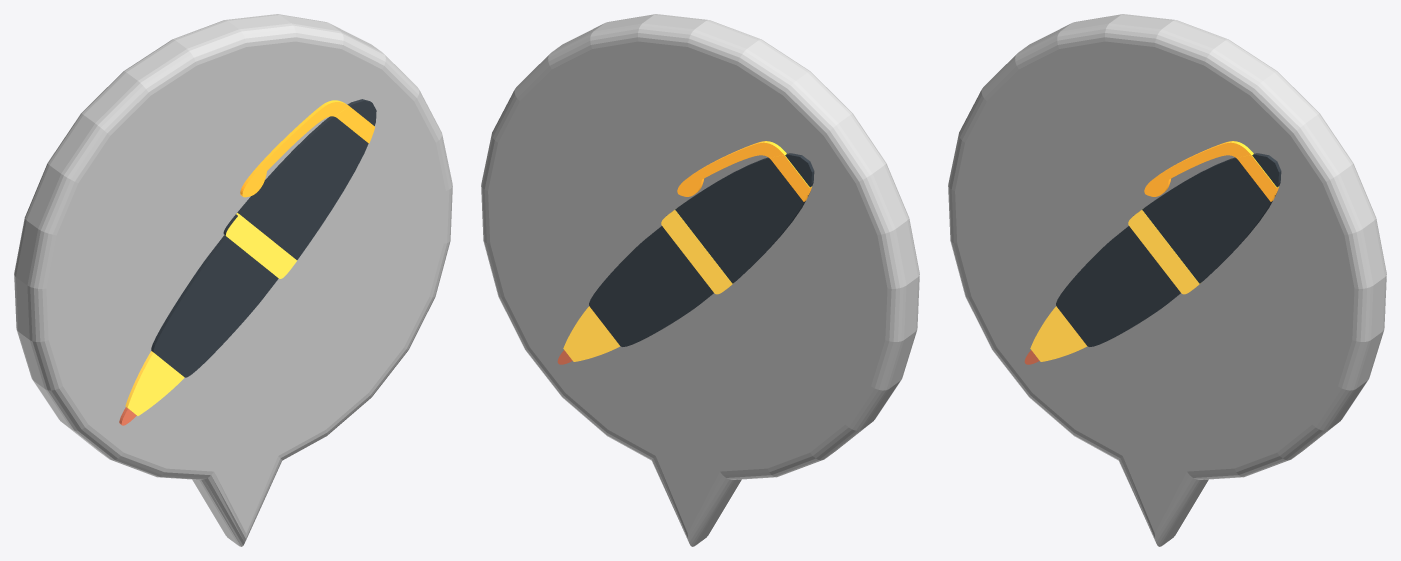
The model's file is pen.glb.
3 renders of one model, left to right at view 1: azimuth 30°, elevation 25°; view 2: azimuth 150°, elevation 25°; view 3: azimuth 330°, elevation 25°, orthographic.
Visible parts, largest first — view 1: EmotionBubble; view 2: EmotionBubble; view 3: EmotionBubble.
Part boxes in pixels (x1=…): EmotionBubble: x1=14, y1=14, x2=452, y2=546; EmotionBubble: x1=481, y1=14, x2=919, y2=546; EmotionBubble: x1=948, y1=14, x2=1386, y2=546.
Size of the model in its own units: 5.29 by 6.16 by 0.7.
